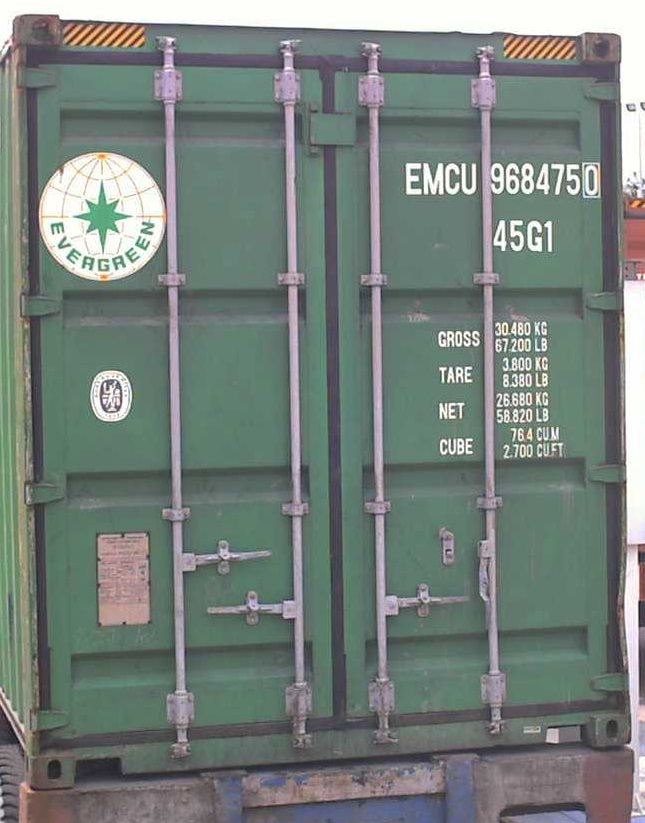container_door: (16, 6, 630, 791)
